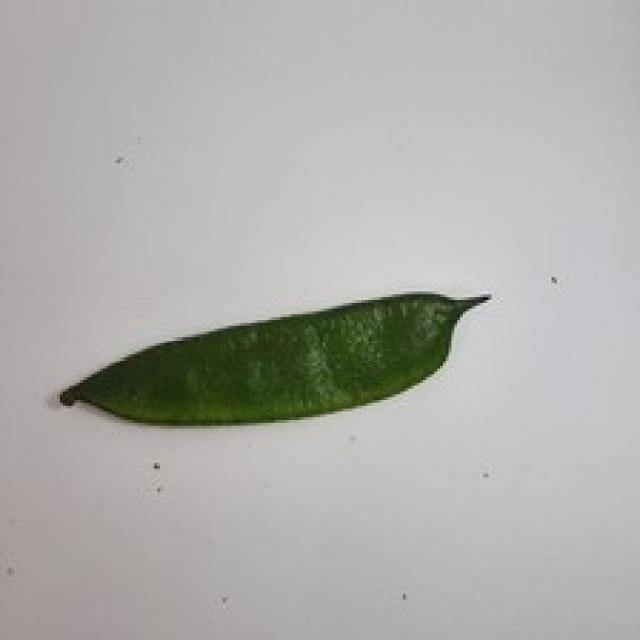Bean: (57, 286, 492, 426)
